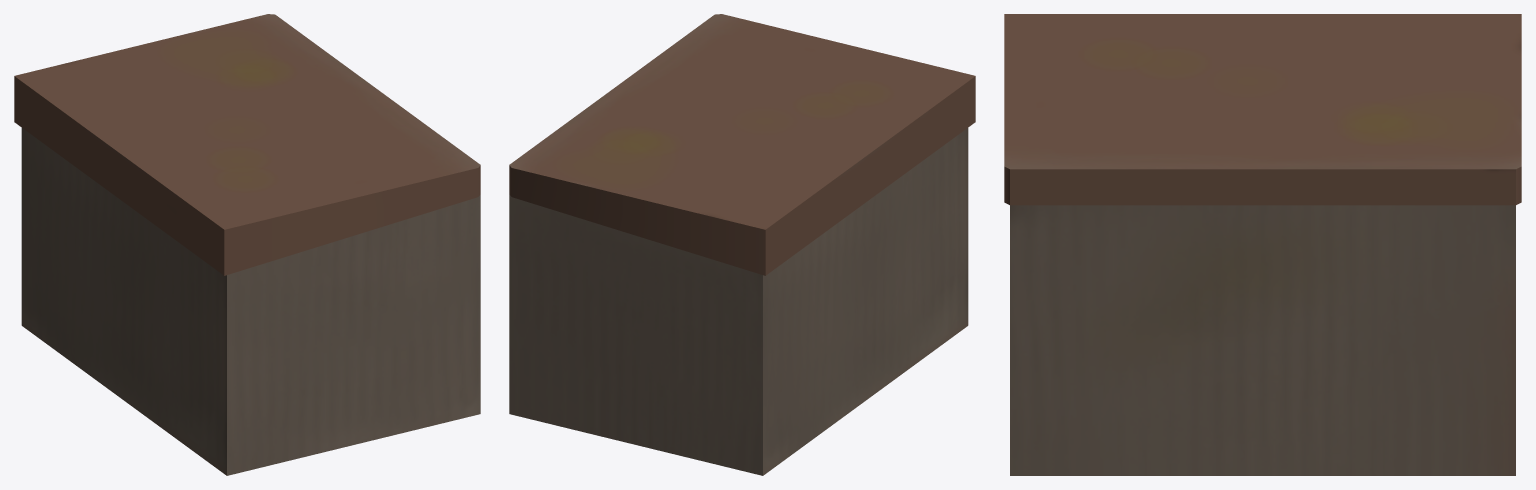
Rendered from PaperBox.fbx.
The picture shows the model from 3 angles, left to right: view 1: azimuth 30°, elevation 25°; view 2: azimuth 150°, elevation 25°; view 3: azimuth 270°, elevation 25°; orthographic projection. The views are drawn at different scales.
Parts seen in each view (by area): view 1: Cube.017; view 2: Cube.017; view 3: Cube.017.
Boxes of the visible parts, x1=… form: Cube.017: x1=14, y1=14, x2=480, y2=475; Cube.017: x1=509, y1=14, x2=975, y2=475; Cube.017: x1=1004, y1=14, x2=1521, y2=475.
Bounding box in the file's own units: 94.96 × 87.36 × 134.
